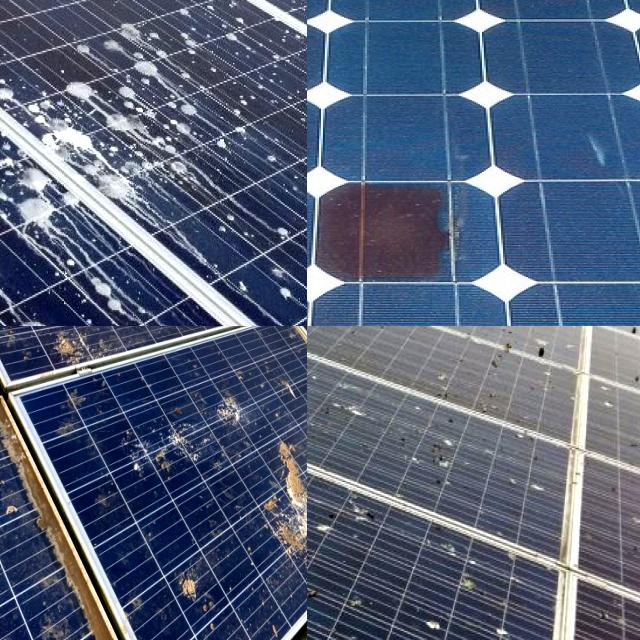bird: (84, 14, 155, 132), (164, 48, 228, 140), (264, 442, 307, 571), (46, 136, 134, 192), (0, 507, 41, 622), (250, 133, 307, 203), (256, 221, 307, 297), (145, 142, 213, 198), (0, 58, 55, 127), (0, 176, 47, 245), (506, 440, 550, 513), (307, 377, 371, 427), (424, 422, 463, 502), (113, 326, 167, 379), (80, 264, 136, 314), (0, 167, 38, 237), (40, 326, 111, 359), (482, 326, 524, 381), (0, 326, 61, 359), (0, 248, 36, 301), (0, 101, 33, 157), (222, 326, 278, 359), (214, 376, 236, 448), (349, 500, 402, 528), (178, 548, 194, 632), (450, 567, 488, 600), (350, 583, 378, 626), (0, 326, 35, 360), (307, 561, 335, 603), (529, 338, 564, 371), (418, 602, 452, 635), (614, 431, 640, 467), (307, 453, 333, 488), (0, 326, 23, 362), (307, 482, 334, 510), (489, 619, 519, 640), (538, 326, 575, 341), (195, 326, 207, 353), (627, 326, 639, 343), (628, 370, 640, 383)
shadow: (307, 181, 491, 326)
